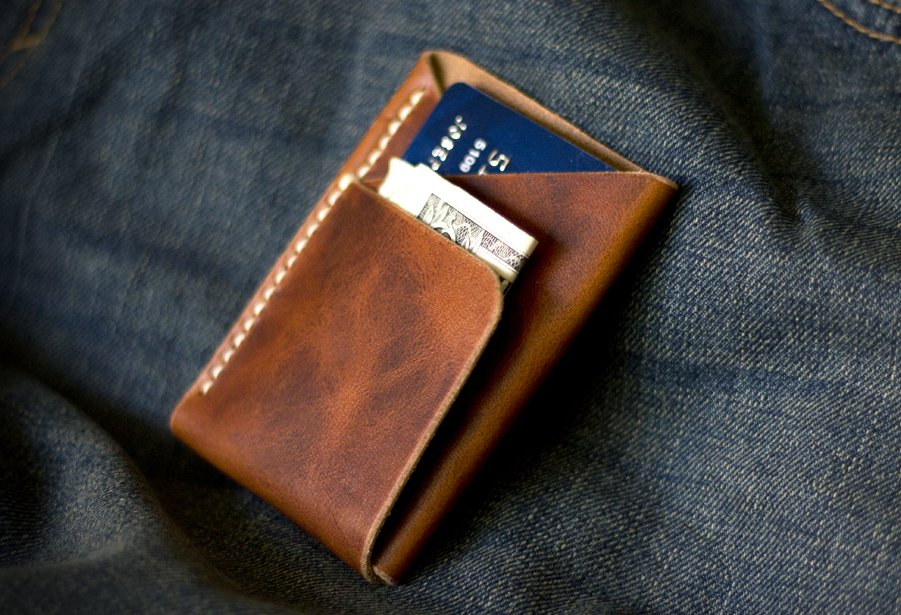monedero: (164, 47, 683, 592)
